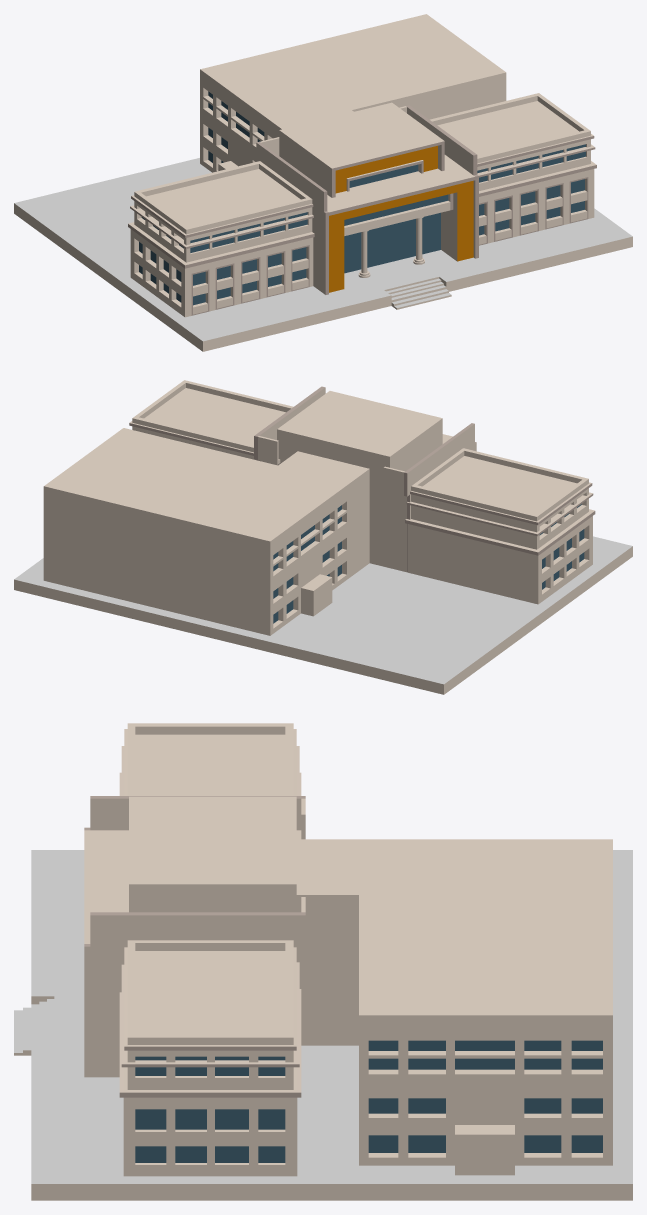
Rendered from SIS Building.fbx.
The picture shows the model from 3 angles, top to bottom: view 1: azimuth 30°, elevation 25°; view 2: azimuth 150°, elevation 25°; view 3: azimuth 270°, elevation 25°; orthographic projection. The views are drawn at different scales.
Visible parts, largest first — view 1: pCube3, pCube4, pCube2, pCube1; view 2: pCube3, pCube4, pCube2, pCube1; view 3: pCube3, pCube4, pCube1, pCube2.
Boxes of the visible parts, box(x1,y1,x2,y2) form: pCube3: box(200, 14, 506, 294); pCube4: box(14, 158, 632, 351); pCube2: box(128, 161, 314, 317); pCube1: box(430, 93, 596, 245); pCube3: box(43, 386, 476, 635); pCube4: box(14, 536, 632, 694); pCube2: box(405, 448, 595, 604); pCube1: box(129, 380, 293, 460); pCube3: box(84, 796, 612, 1175); pCube4: box(14, 850, 632, 1200); pCube1: box(119, 940, 301, 1176); pCube2: box(119, 723, 301, 795).
Bounding box in the file's own units: 49.94 × 13.52 × 39.11.
